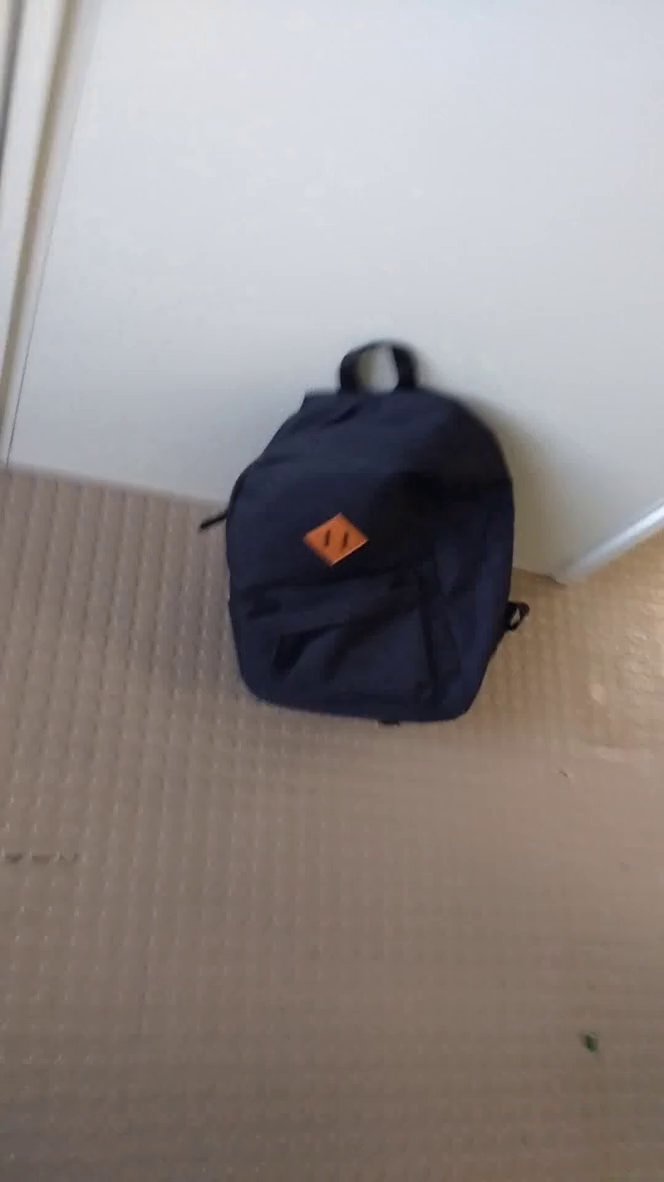bag: (187, 318, 540, 744)
